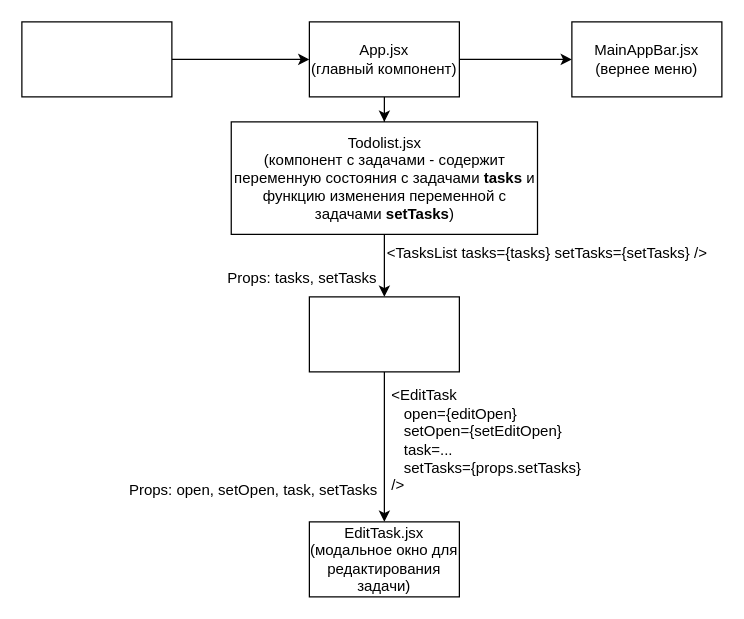
This 744x619 diagram has some shape labels left out. Here are the shapes that lost their labels. From the top down, the centre of each, then its label:
the point at 96,59: main.jsx (точка монтирования App.jsx + index.html)
the point at 383,334: TasksList.jsx (работа со списком задач)
